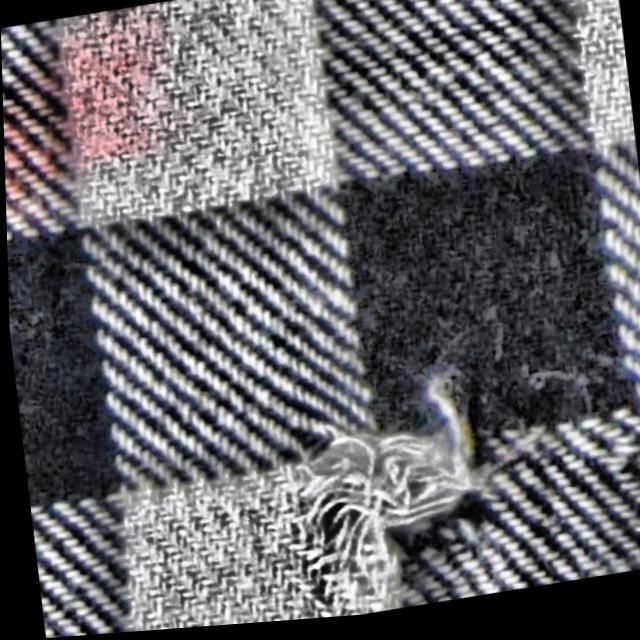Stitch: (254, 297, 614, 619)
